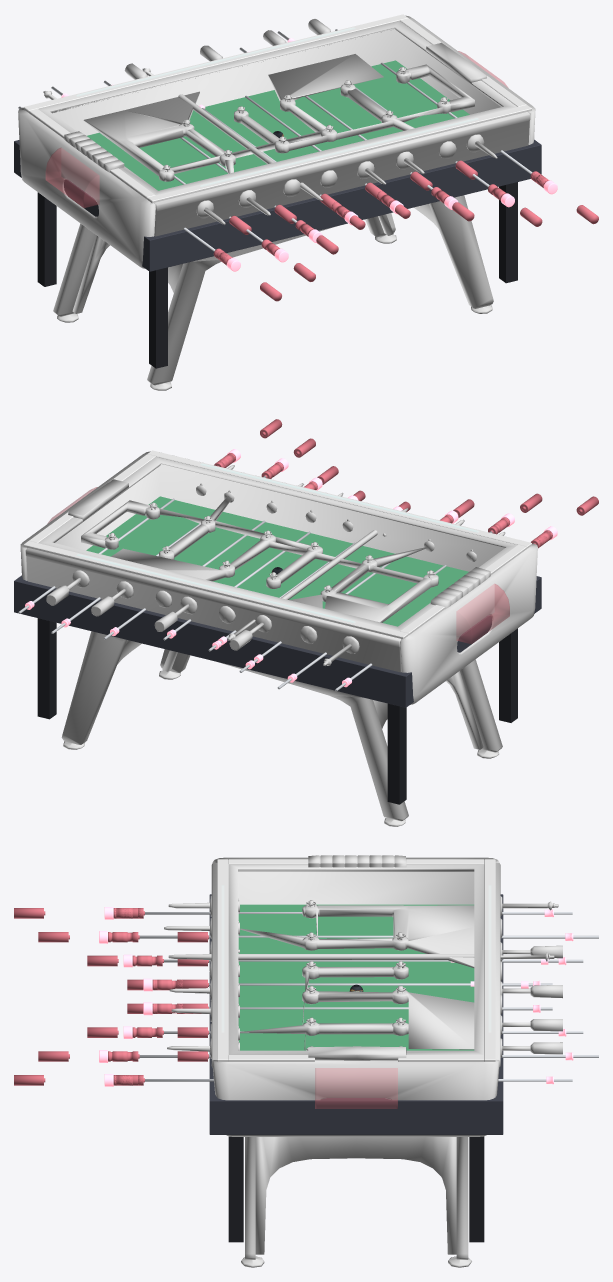
Rendered from ball_cannonball.glb.
3 renders of one model, top to bottom at view 1: azimuth 30°, elevation 25°; view 2: azimuth 150°, elevation 25°; view 3: azimuth 270°, elevation 25°, orthographic. The views are drawn at different scales.
Parts seen in each view (by area): view 1: tripto_table, field, table_base, wall_side_p, wall_side_n, goal_net, table_leg.001, table_leg, table_leg.003, led_strip.001, led_strip; view 2: tripto_table, field, table_base, wall_side_n, wall_side_p, goal_net, table_leg, table_leg.002, table_leg.001, led_strip; view 3: tripto_table, field, table_base, goal_net.001, wall_side_n, wall_side_p, table_leg.002, table_leg.003, rod2_bar, rod5_bar, rod3_bar, rod5_bar.001 (+2 smaller).
Part boxes in pixels (<box>): tripto_table: <box>18,15,535,390</box>; field: <box>87,60,469,190</box>; table_base: <box>14,139,541,271</box>; wall_side_p: <box>147,105,531,235</box>; wall_side_n: <box>23,14,407,112</box>; goal_net: <box>45,148,99,207</box>; table_leg.001: <box>149,267,167,368</box>; table_leg: <box>37,192,56,286</box>; table_leg.003: <box>499,182,517,283</box>; led_strip.001: <box>200,118,477,186</box>; led_strip: <box>76,28,354,96</box>; tripto_table: <box>20,451,537,826</box>; field: <box>86,496,468,626</box>; table_base: <box>14,575,541,707</box>; wall_side_n: <box>23,541,408,671</box>; wall_side_p: <box>147,450,531,548</box>; goal_net: <box>456,584,509,644</box>; table_leg: <box>387,703,406,804</box>; table_leg.002: <box>37,618,56,719</box>; table_leg.001: <box>499,628,517,722</box>; led_strip: <box>77,554,355,622</box>; tripto_table: <box>164,855,562,1267</box>; field: <box>238,904,474,1050</box>; table_base: <box>209,894,503,1134</box>; goal_net.001: <box>315,1068,397,1108</box>; wall_side_n: <box>484,859,495,1097</box>; wall_side_p: <box>217,859,228,1061</box>; table_leg.002: <box>469,1136,484,1242</box>; table_leg.003: <box>228,1136,243,1242</box>; rod2_bar: <box>139,935,598,938</box>; rod5_bar: <box>209,983,552,986</box>; rod3_bar: <box>164,959,583,962</box>; rod5_bar.001: <box>209,1007,552,1010</box>.
Bounding box in the file's own units: 141 × 65.96 × 155.
Materials: 10 (1 with a texture image).
